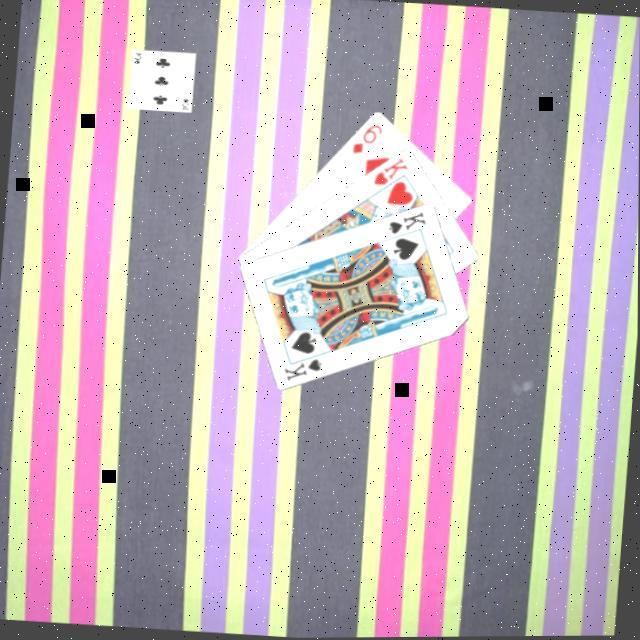6D: (348, 119, 383, 158)
KH: (368, 150, 411, 188)
KS: (280, 345, 324, 384), (384, 205, 429, 238)
